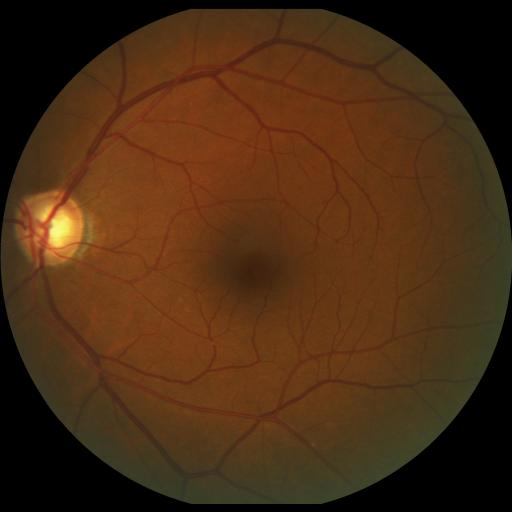Optic Cup: (34, 204, 73, 250)
Optic Disc: (15, 190, 83, 265)
